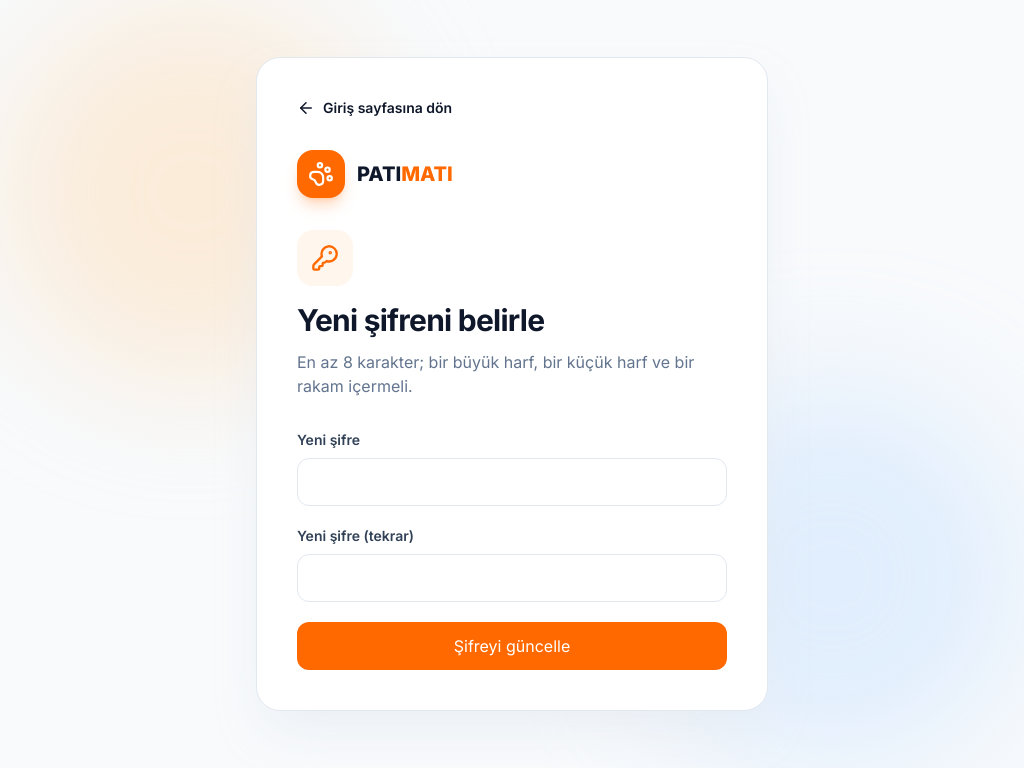
Test: ResetPasswordPage › geçerli formda token adresten okunup istekle gider, başarı ekranı çıkar
This screenshot has width=1024, height=768.
Step 1. Type "YeniSifre1" into the password field labelled "Yeni şifre" → (512, 482), box top-left (297, 458), bottom-right (727, 506)
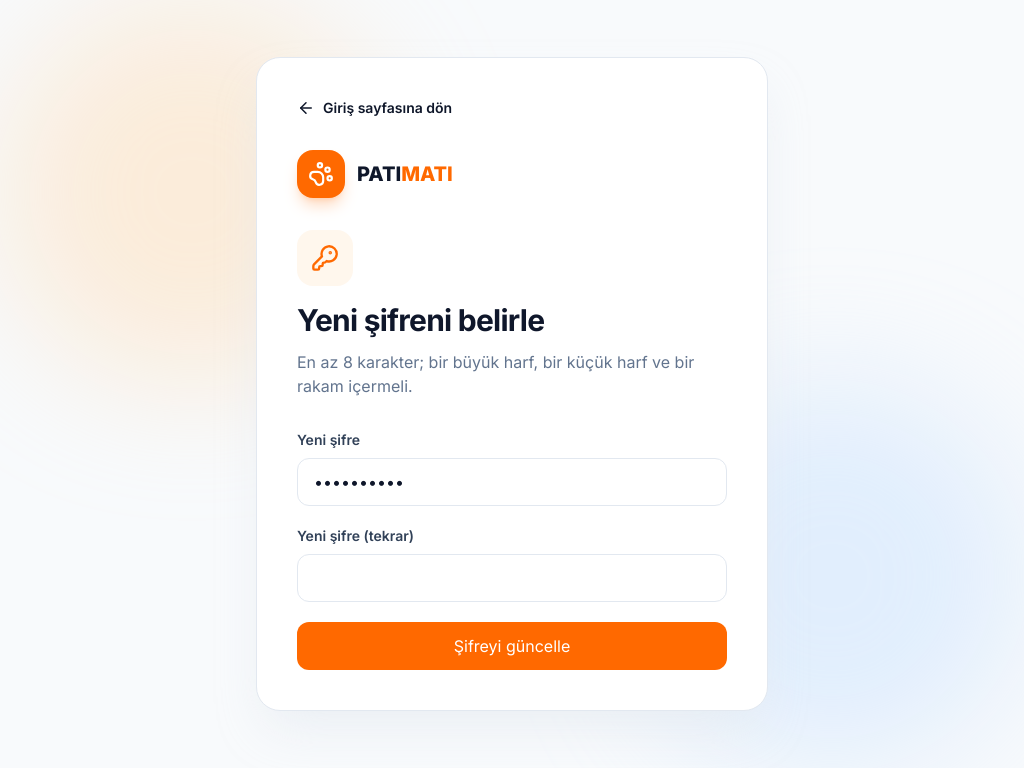
Step 2. Type "YeniSifre1" into the password field labelled "Yeni şifre (tekrar)" → (512, 578), box top-left (297, 554), bottom-right (727, 602)
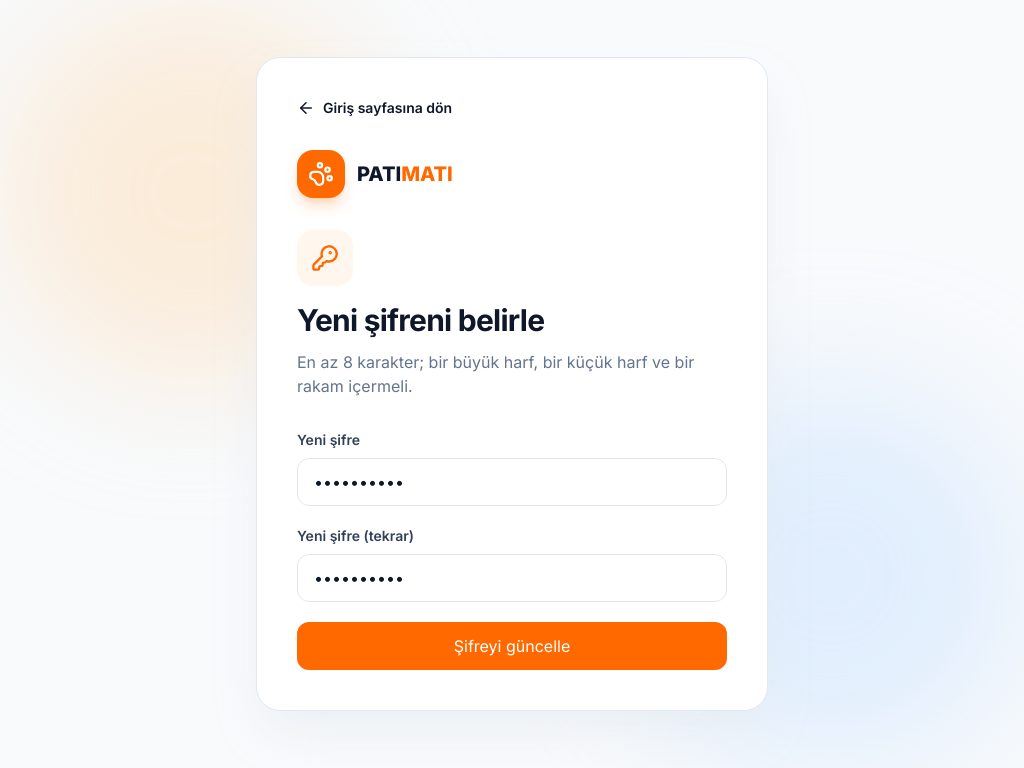
Step 3. Click the button "Şifreyi güncelle" → (512, 646), box top-left (297, 622), bottom-right (727, 670)
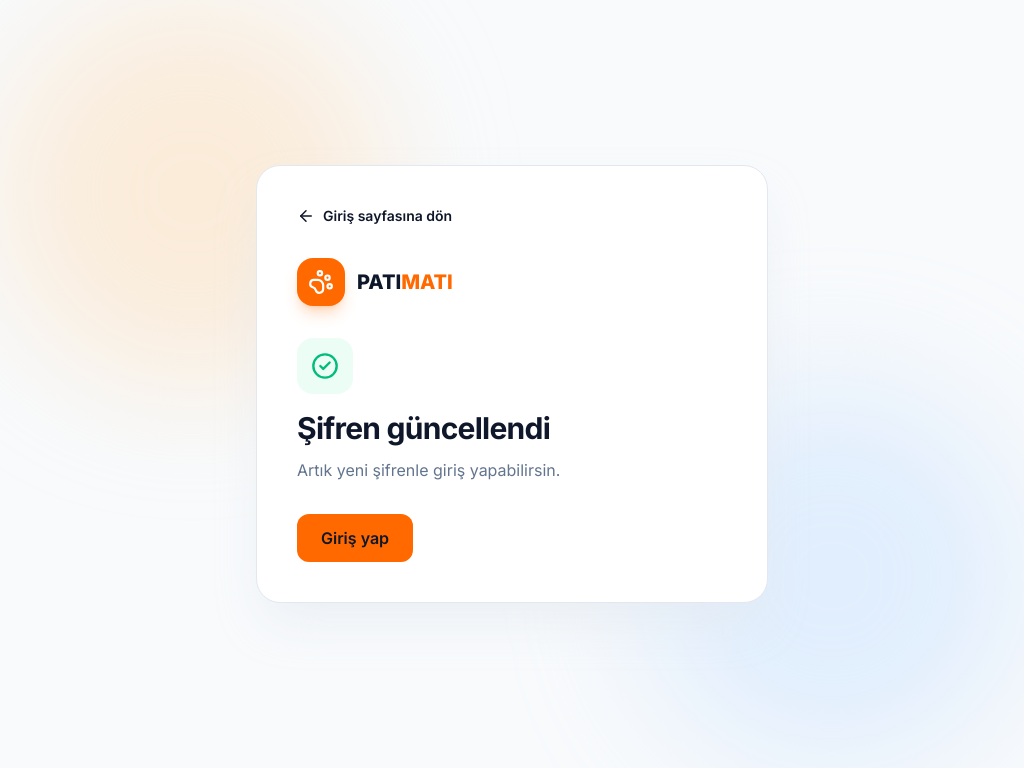
Now the heading "Şifren güncellendi" is shown, box top-left (297, 410), bottom-right (550, 446)
